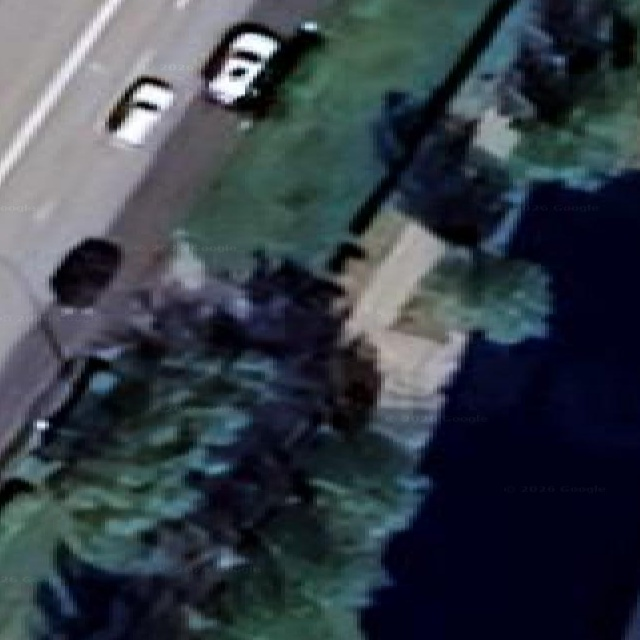car: (27, 316, 118, 452), (204, 20, 320, 112), (26, 357, 119, 457), (252, 20, 322, 108), (207, 28, 280, 104), (48, 236, 121, 310), (48, 238, 120, 307), (107, 76, 172, 145), (121, 344, 124, 347), (94, 424, 96, 427), (118, 346, 119, 347)
